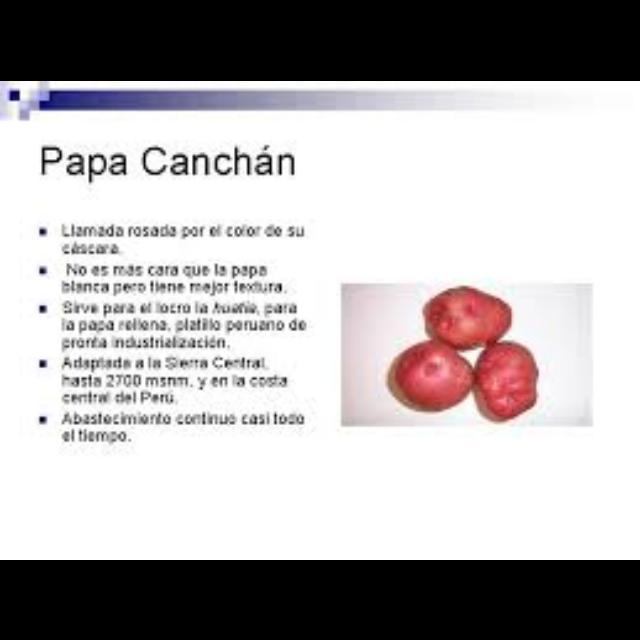Defected potato: (420, 284, 516, 350), (392, 340, 476, 414), (474, 338, 540, 420)
